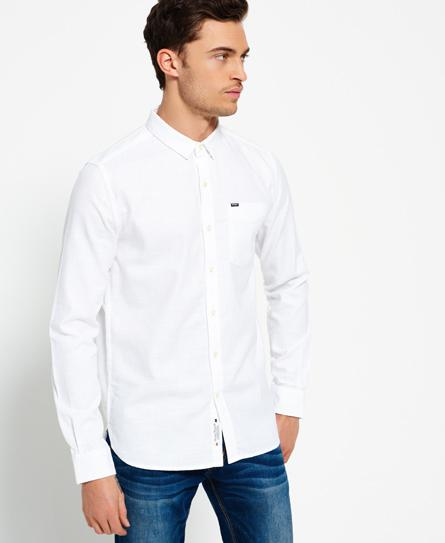teeshirt: (47, 128, 318, 484)
